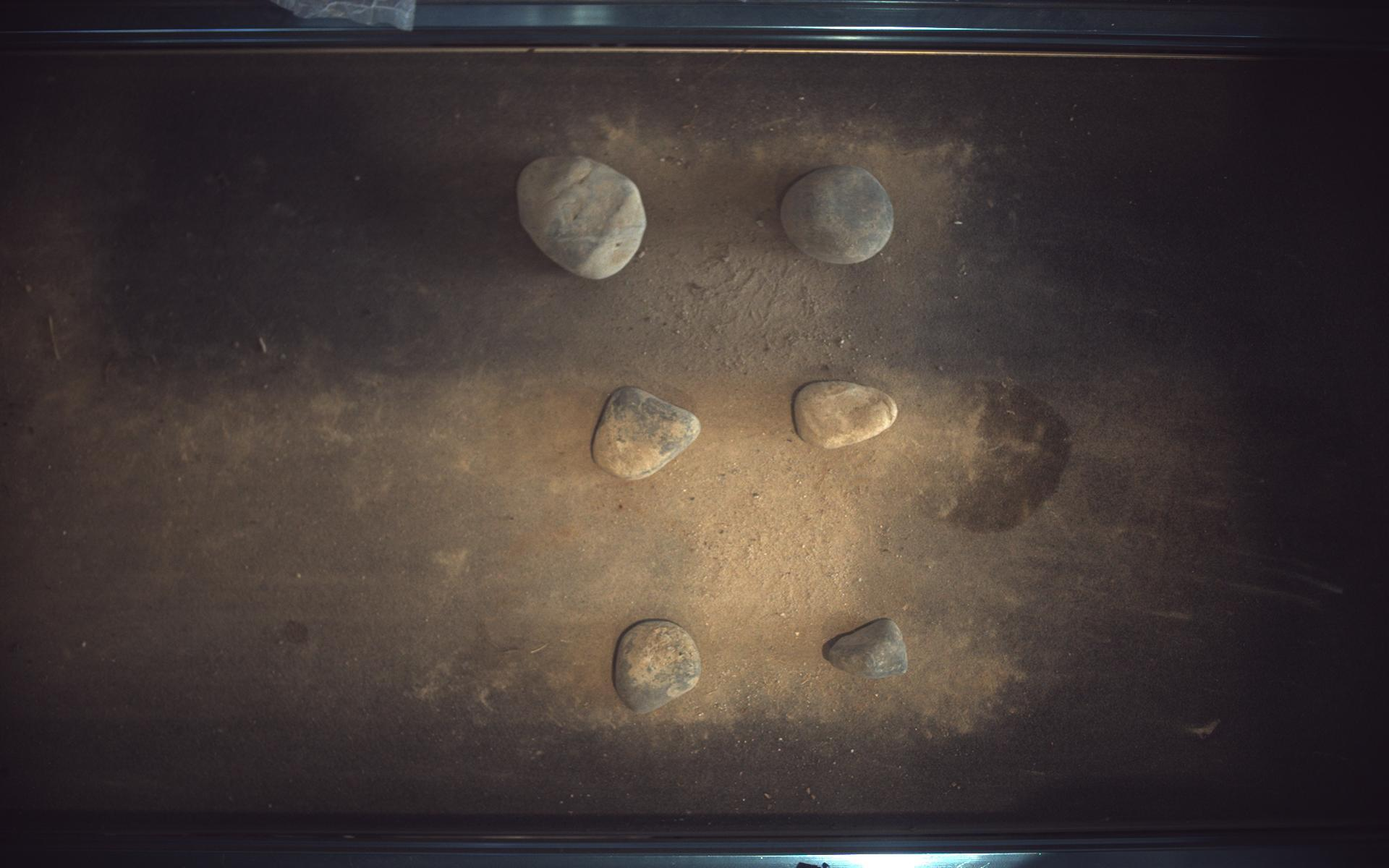stone: (517, 155, 647, 278), (782, 164, 896, 263), (592, 386, 702, 480), (614, 621, 702, 715), (795, 381, 899, 448), (827, 618, 909, 680)
